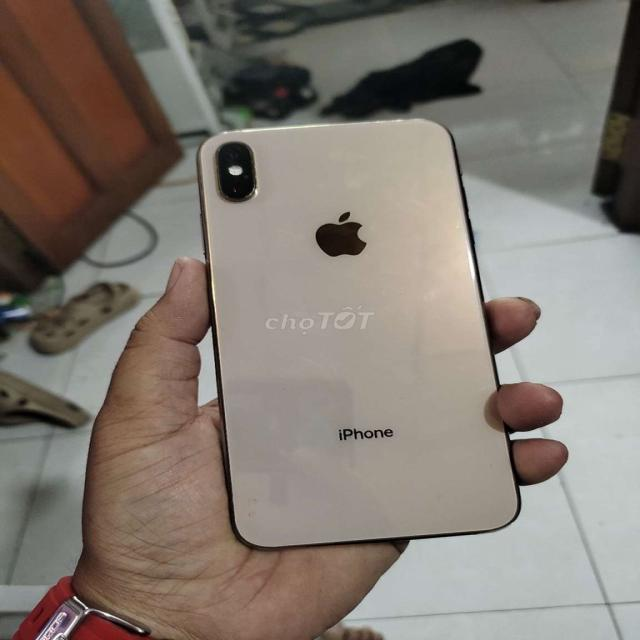gen_x_xs: (198, 121, 519, 548)
